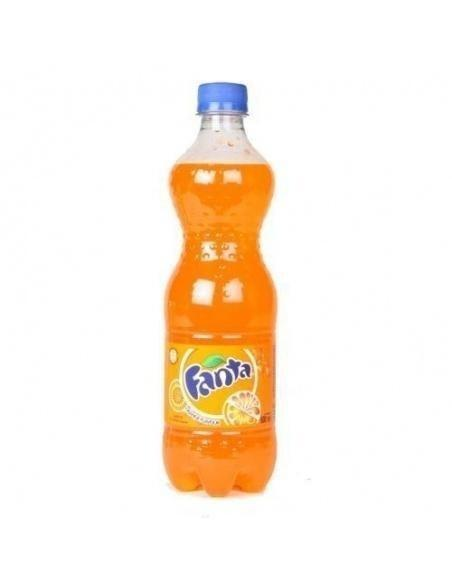bottle-plastic: (159, 79, 280, 500)
